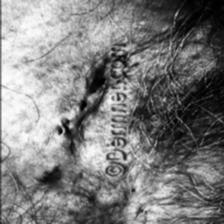Non-Cancerous Skin Condition: (2, 6, 106, 224)
